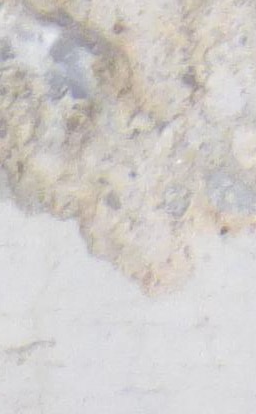Spalling: (1, 1, 256, 300)
